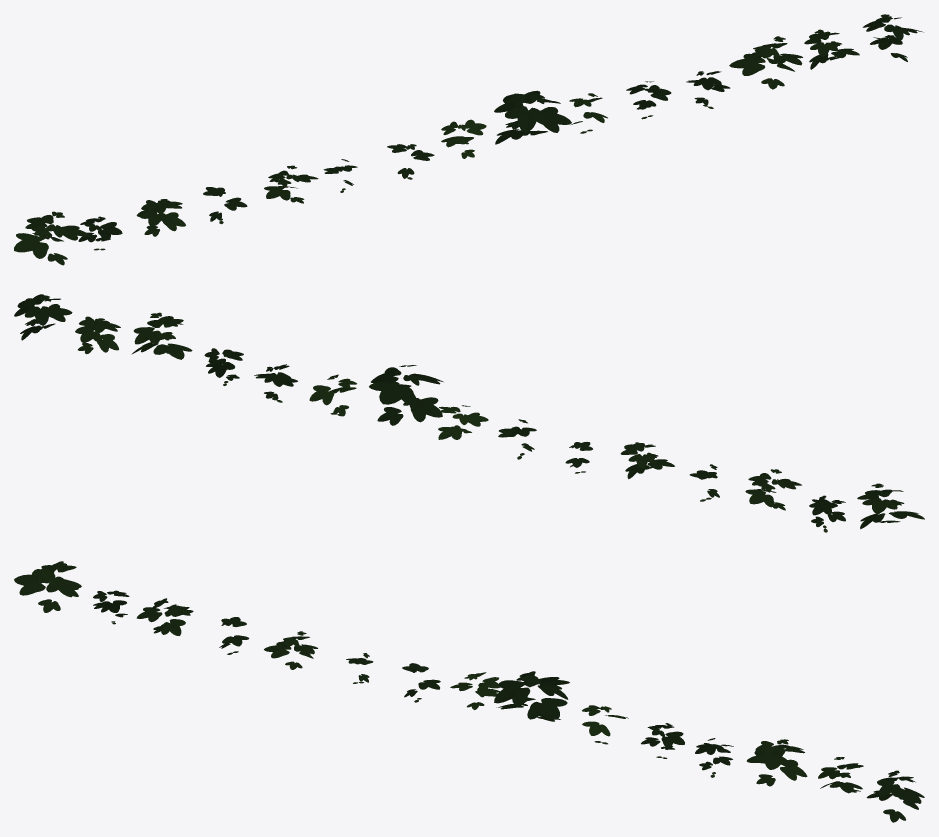
File: ROW_14_SEG1_foliage.dae
3 views of the same model, one above another, from view 1: azimuth 30°, elevation 25°; view 2: azimuth 150°, elevation 25°; view 3: azimuth 330°, elevation 25° (orthographic).
Visible parts, largest first — view 1: ROW_14_SEG1_foliage; view 2: ROW_14_SEG1_foliage; view 3: ROW_14_SEG1_foliage.
Boxes of the visible parts, <box> form: ROW_14_SEG1_foliage: <box>14,14,923,265</box>; ROW_14_SEG1_foliage: <box>14,294,924,532</box>; ROW_14_SEG1_foliage: <box>14,561,924,822</box>.
Bounding box in the file's own units: 4.57 × 0.3521 × 0.2842.
